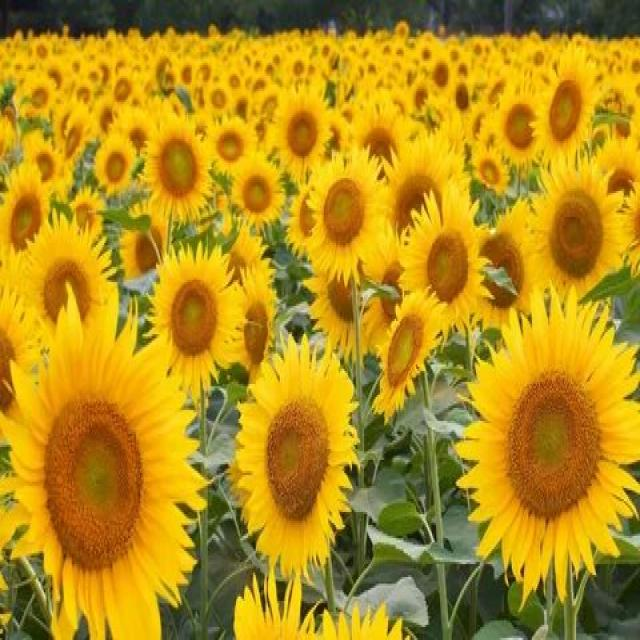sunflower: (1, 290, 219, 640), (457, 278, 640, 601), (233, 330, 367, 584), (523, 152, 620, 323), (144, 245, 252, 397), (396, 184, 493, 332), (298, 144, 398, 286), (528, 44, 604, 184), (380, 293, 447, 423), (143, 113, 216, 228), (3, 145, 52, 291), (269, 86, 336, 186), (203, 109, 260, 193), (90, 130, 138, 200), (464, 139, 513, 199)
